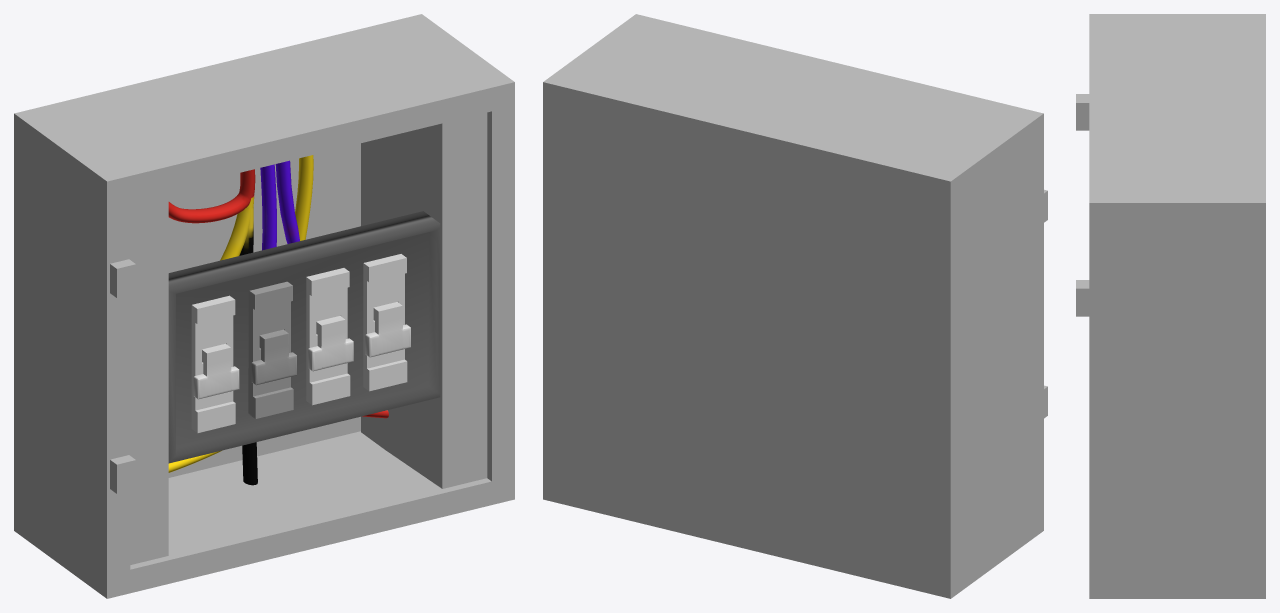
The model's file is Security Box3.fbx.
The picture shows the model from 3 angles, left to right: view 1: azimuth 30°, elevation 25°; view 2: azimuth 150°, elevation 25°; view 3: azimuth 270°, elevation 25°; orthographic projection. The views are drawn at different scales.
Parts seen in each view (by area): view 1: Box, Cube, Wires, Missing Switch, Cube.001, Cube.003, Cube.002; view 2: Box; view 3: Box.
Part boxes in pixels (box(x1,y1,x2,y2)): Box: box(14, 14, 514, 598); Cube: box(168, 211, 440, 463); Wires: box(168, 155, 388, 485); Missing Switch: box(248, 281, 296, 418); Cube.001: box(191, 295, 239, 432); Cube.003: box(363, 254, 410, 391); Cube.002: box(306, 268, 353, 405); Box: box(543, 14, 1047, 598); Box: box(1076, 14, 1265, 598).
Bounding box in the file's own units: 246 × 240 × 104.
4 materials, 3 textured.
